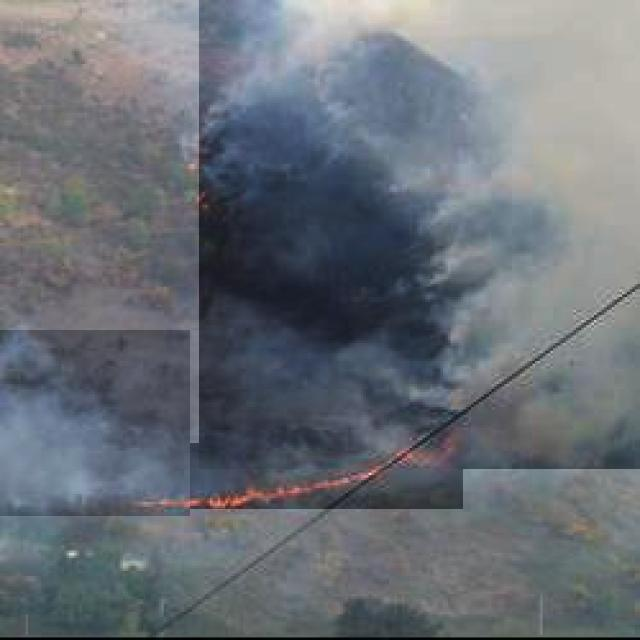Fire: (128, 444, 463, 509)
Smoke: (199, 0, 640, 469), (0, 330, 190, 516)
